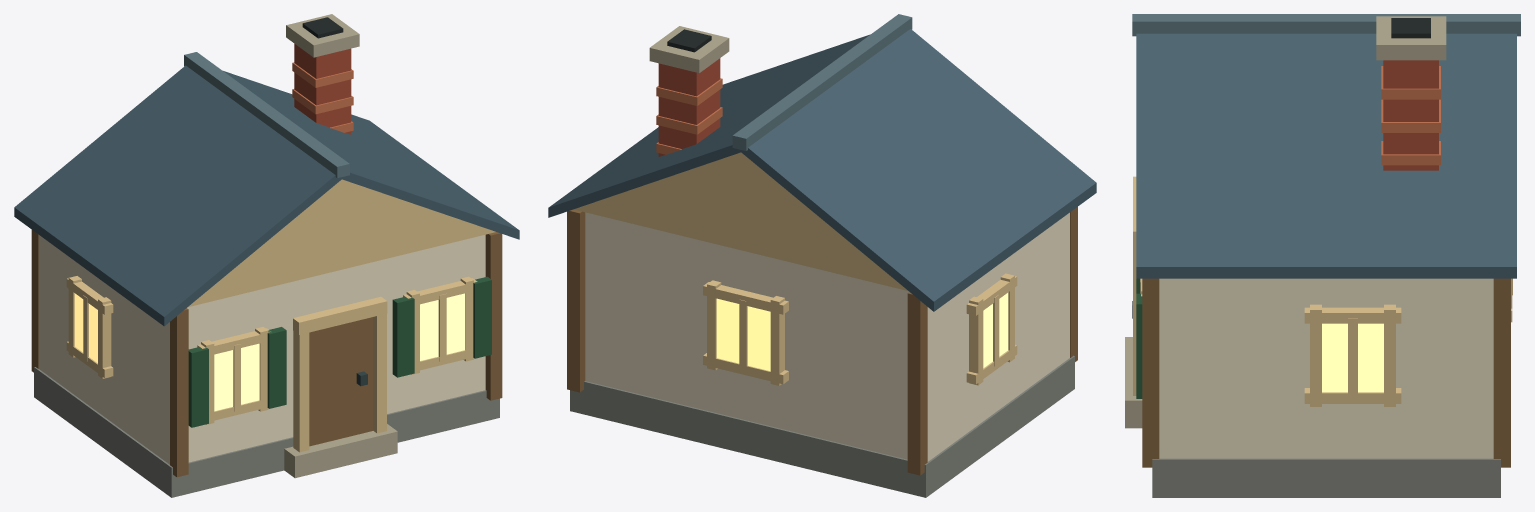
File: farmhouse.glb
3 renders of one model, left to right at view 1: azimuth 30°, elevation 25°; view 2: azimuth 150°, elevation 25°; view 3: azimuth 270°, elevation 25°, orthographic. The views are drawn at different scales.
Visible parts, largest first — view 1: Cottage_slate_roof_left, Cottage_walls, Cottage_gable, Cottage_foundation, Cottage_slate_roof_right, Home_front_door, Cottage_roof_ridge, Porch_step, Cottage_brick_chimney, Cottage_corner_timber, Cottage_corner_timber.002, Home_front_window_light (+22 smaller); view 2: Cottage_walls, Cottage_slate_roof_left, Cottage_foundation, Cottage_gable.001, Cottage_slate_roof_right, Cottage_roof_ridge, Cottage_corner_timber.001, Cottage_brick_chimney, Cottage_corner_timber.003, Home_back_window_light, Chimney_coping, Home_back_window_jamb (+12 smaller); view 3: Cottage_slate_roof_right, Cottage_walls, Cottage_foundation, Cottage_roof_ridge, Cottage_brick_chimney, Home_side_window_light.001, Cottage_corner_timber.002, Cottage_corner_timber.003, Chimney_coping, Home_side_window_sill.003, Home_side_window_jamb.002, Home_side_window_jamb.003 (+9 smaller).
Part boxes in pixels (x1=…): Cottage_slate_roof_left: x1=14, y1=65, x2=341, y2=326; Cottage_walls: x1=38, y1=234, x2=485, y2=464; Cottage_gable: x1=188, y1=179, x2=495, y2=306; Cottage_foundation: x1=34, y1=367, x2=499, y2=497; Cottage_slate_roof_right: x1=223, y1=71, x2=519, y2=239; Home_front_door: x1=309, y1=317, x2=372, y2=446; Cottage_roof_ridge: x1=184, y1=52, x2=349, y2=178; Porch_step: x1=284, y1=424, x2=397, y2=478; Cottage_brick_chimney: x1=294, y1=44, x2=351, y2=134; Cottage_corner_timber: x1=170, y1=308, x2=188, y2=477; Cottage_corner_timber.002: x1=485, y1=232, x2=502, y2=400; Home_front_window_light: x1=214, y1=343, x2=259, y2=411; Cottage_walls: x1=585, y1=212, x2=1069, y2=461; Cottage_slate_roof_left: x1=741, y1=29, x2=1096, y2=311; Cottage_foundation: x1=570, y1=355, x2=1074, y2=497; Cottage_gable.001: x1=574, y1=152, x2=907, y2=290; Cottage_slate_roof_right: x1=548, y1=34, x2=870, y2=217; Cottage_roof_ridge: x1=732, y1=14, x2=912, y2=150; Cottage_corner_timber.001: x1=907, y1=292, x2=927, y2=475; Cottage_brick_chimney: x1=658, y1=58, x2=720, y2=156; Cottage_corner_timber.003: x1=567, y1=209, x2=585, y2=392; Home_back_window_light: x1=716, y1=298, x2=770, y2=371; Chimney_coping: x1=649, y1=26, x2=729, y2=73; Home_back_window_jamb: x1=770, y1=296, x2=784, y2=385; Cottage_slate_roof_right: x1=1136, y1=33, x2=1516, y2=278; Cottage_walls: x1=1159, y1=278, x2=1493, y2=458; Cottage_foundation: x1=1152, y1=458, x2=1500, y2=497; Cottage_roof_ridge: x1=1132, y1=14, x2=1520, y2=36; Cottage_brick_chimney: x1=1383, y1=60, x2=1438, y2=170; Home_side_window_light.001: x1=1322, y1=323, x2=1383, y2=392; Cottage_corner_timber.002: x1=1142, y1=278, x2=1159, y2=467; Cottage_corner_timber.003: x1=1493, y1=278, x2=1510, y2=467; Chimney_coping: x1=1376, y1=16, x2=1446, y2=60; Home_side_window_sill.003: x1=1304, y1=307, x2=1401, y2=323; Home_side_window_jamb.002: x1=1310, y1=304, x2=1321, y2=406; Home_side_window_jamb.003: x1=1384, y1=304, x2=1395, y2=406.
Bounding box in the file's own units: 3.94 × 3.55 × 2.99.
